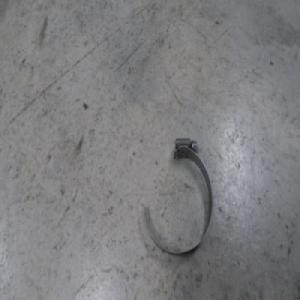AdjustableClamp: (141, 138, 212, 256)
